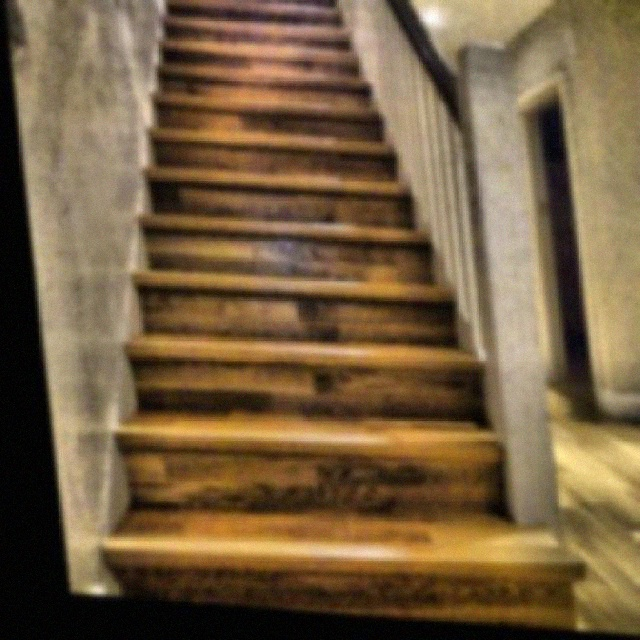stair: (34, 0, 481, 585)
